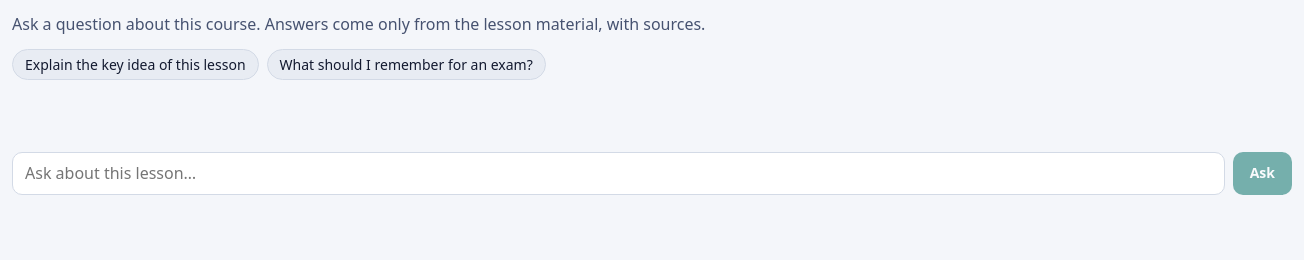
Test: TutorPanel › shows a grounded answer with its sources and sends recent history
In the field named "Your question": (618, 173) [12,152,1225,195], type "Why are leaves linked?"
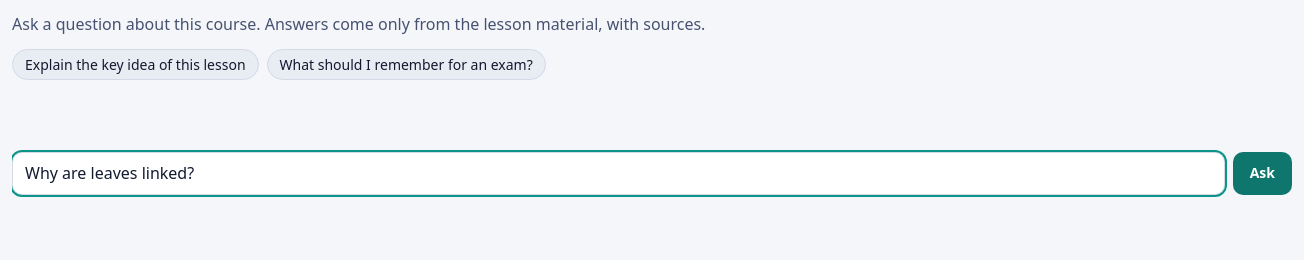
Click the button "Ask": (1262, 173) [1233,152,1292,195]
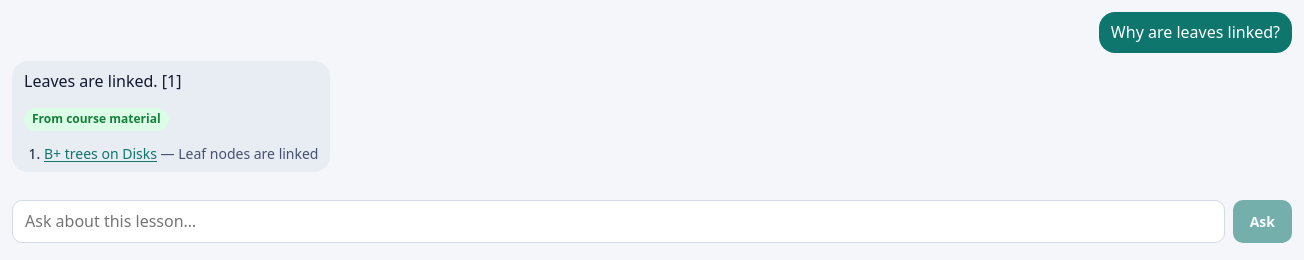
Expected: the text "Leaves are linked. [1]" is shown, [24,70,182,92]
Expected: the text "From course material" is shown, [24,108,169,131]
